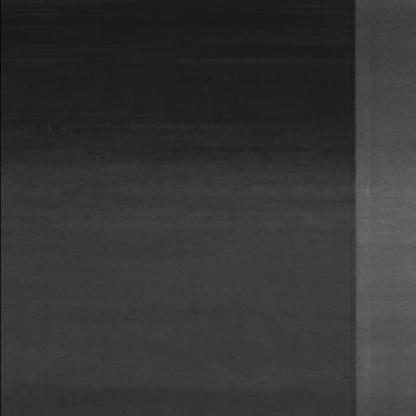welding_line: (339, 0, 371, 416)
